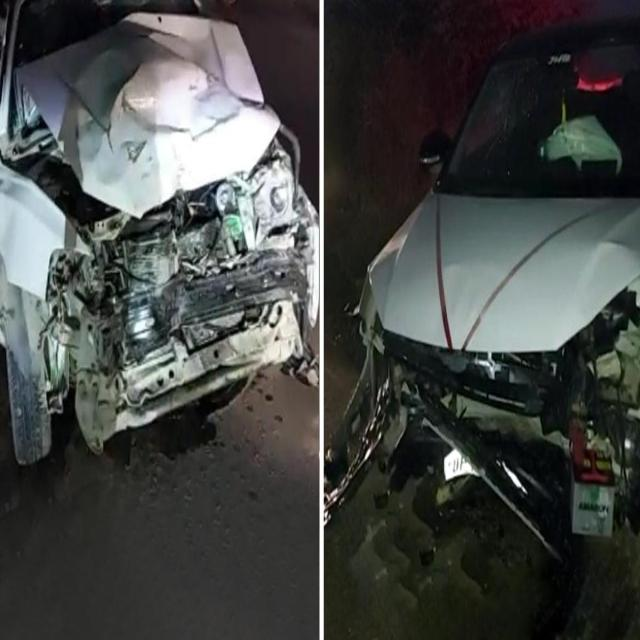accident: (325, 20, 640, 562), (0, 0, 319, 463)
